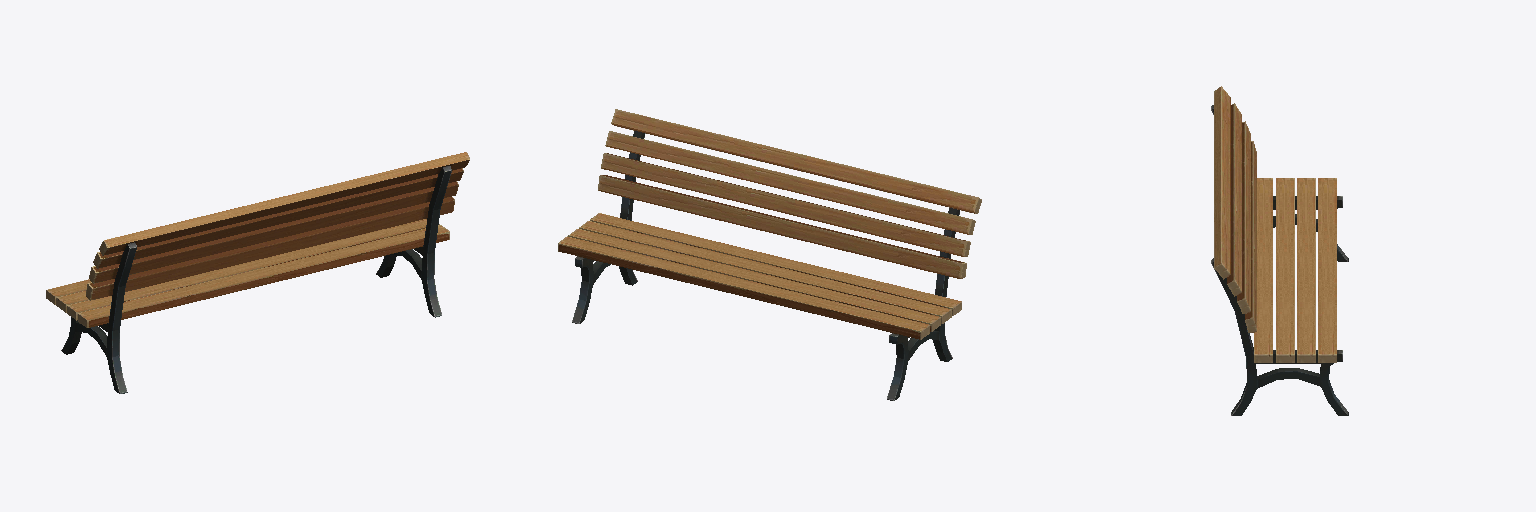
3 renders of one model, left to right at view 1: azimuth 30°, elevation 25°; view 2: azimuth 150°, elevation 25°; view 3: azimuth 270°, elevation 25°, orthographic.
Parts seen in each view (by area): view 1: stage_21_zuoyi_(1); view 2: stage_21_zuoyi_(1); view 3: stage_21_zuoyi_(1).
Part boxes in pixels (left/top/right/bottom): stage_21_zuoyi_(1): left=46, top=152, right=469, bottom=393; stage_21_zuoyi_(1): left=558, top=109, right=981, bottom=400; stage_21_zuoyi_(1): left=1211, top=86, right=1348, bottom=415.
Bounding box in the file's own units: 3.07 × 1.31 × 1.01.
Materials: 1 (1 with a texture image).